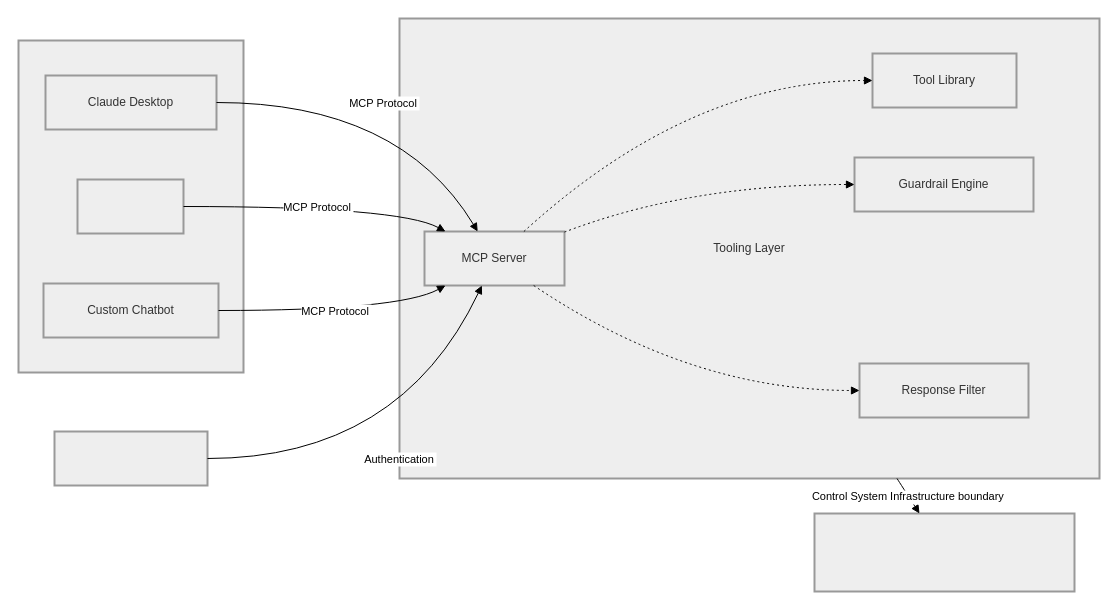
The diagram is 1117 pixels wide and 609 high, and some of its shapes have lost their labels. Each missing label, with the centre of its shape:
Control System Infrastructure: [944,552]
Cursor: [130,206]
User Identity: [130,458]
